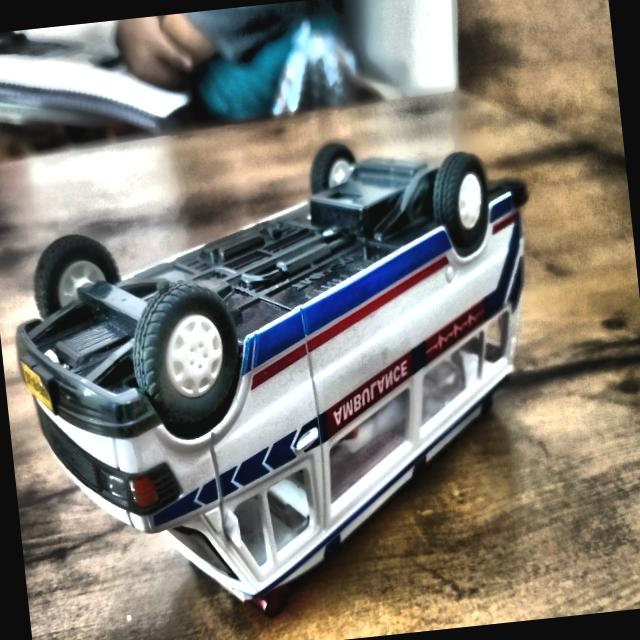Ambulance: (0, 118, 574, 640)
